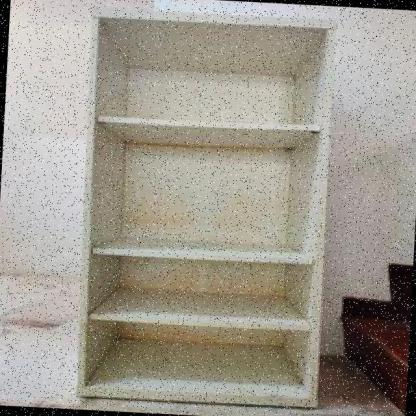Shelf: (64, 2, 344, 416)
